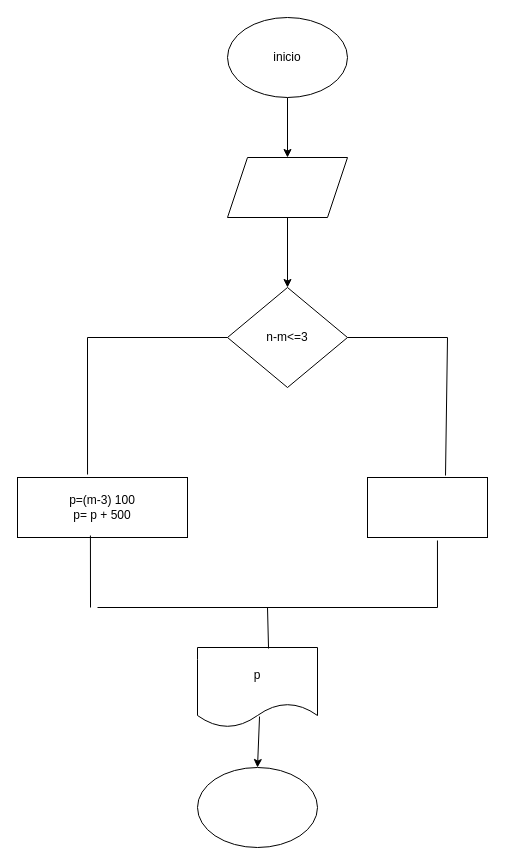
The diagram is 505 pixels wide and 865 high, and some of its shapes have lost their labels. The centre of each missing label's shape, as x and y in pixels:
n-m: (x=287, y=187)
p= 500: (x=427, y=507)
